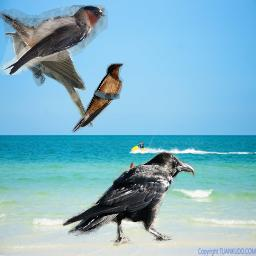Crow: (61, 151, 195, 248)
Cuckoo: (5, 28, 93, 128)
Swallow: (0, 5, 108, 75), (70, 62, 124, 133)
